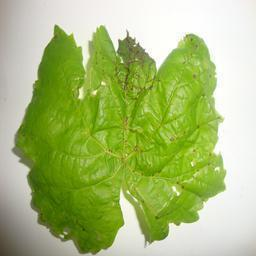Powdery-Mildew: (88, 34, 114, 89), (158, 79, 196, 116), (182, 45, 216, 79), (97, 198, 122, 243), (15, 135, 42, 165), (122, 65, 145, 92)
